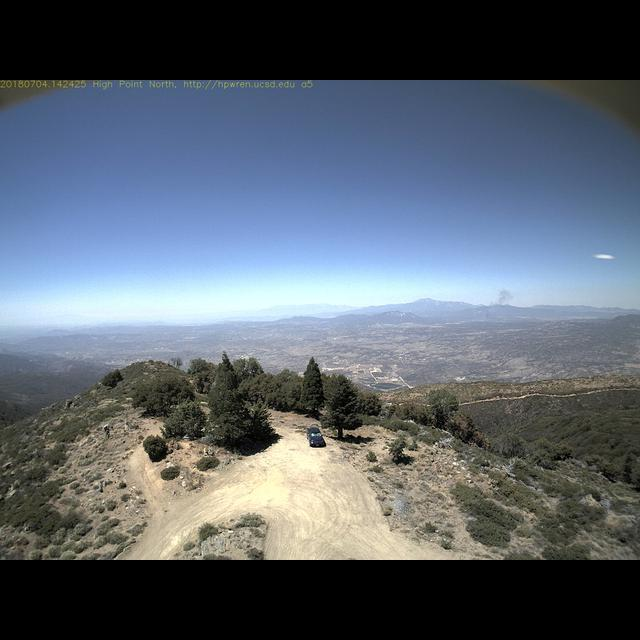Smoke: (483, 285, 516, 307)
